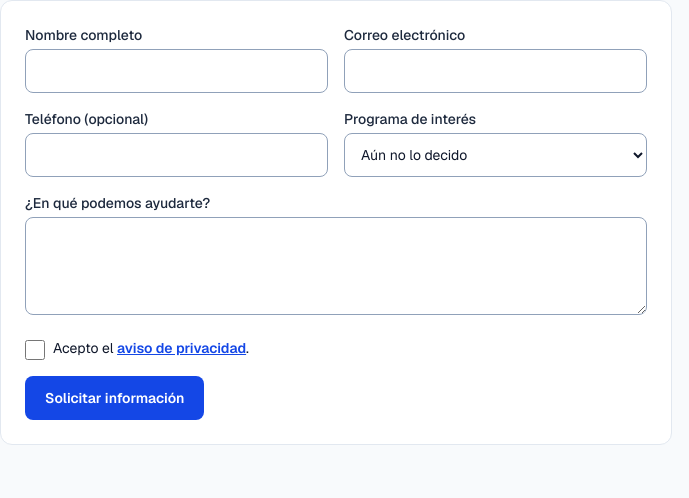
Test: formularios públicos › información: el límite de intentos se explica en español
Type "Ana" into the field labelled "Nombre completo".
click(176, 71); type("Ana")  # box [25,49,328,93]
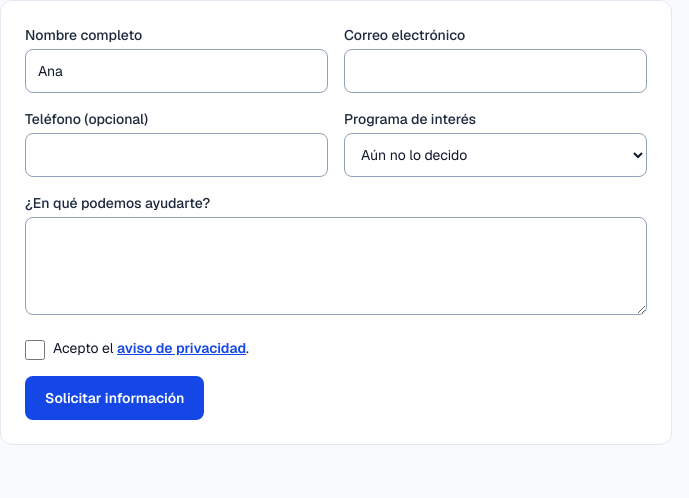
Type "ana@iinicia.test" into the field labelled "Correo electrónico".
click(496, 71); type("ana@iinicia.test")  # box [344,49,647,93]
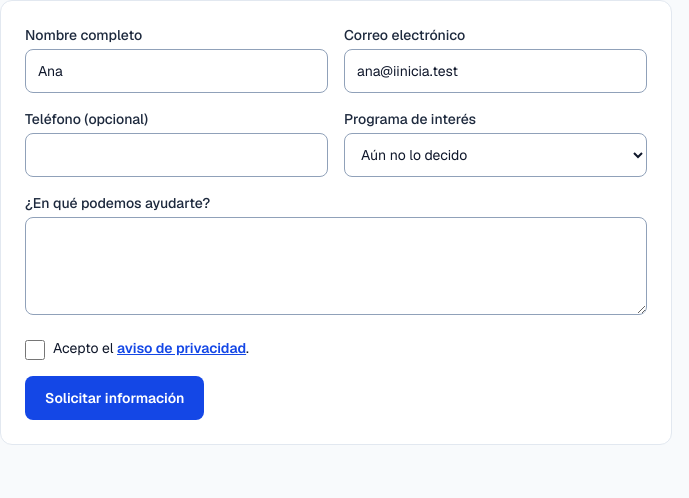
Type "Quiero información" into the text box labelled "¿En qué podemos ayudarte?".
click(336, 266); type("Quiero información")  # box [25,217,647,315]
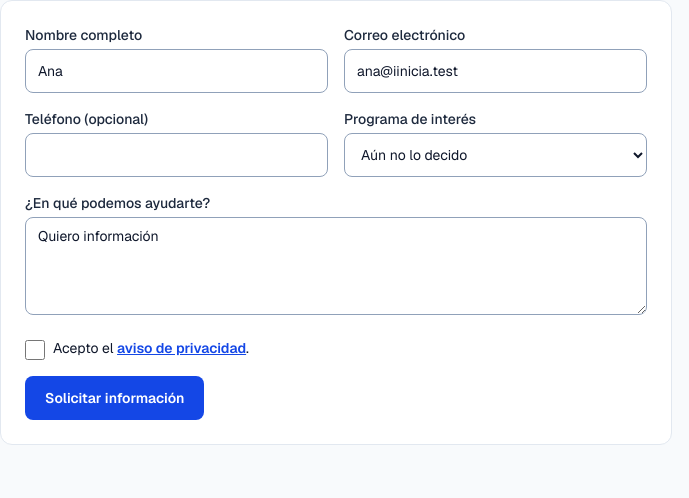
Click the checkbox.
click(35, 350)  # box [25,340,45,360]
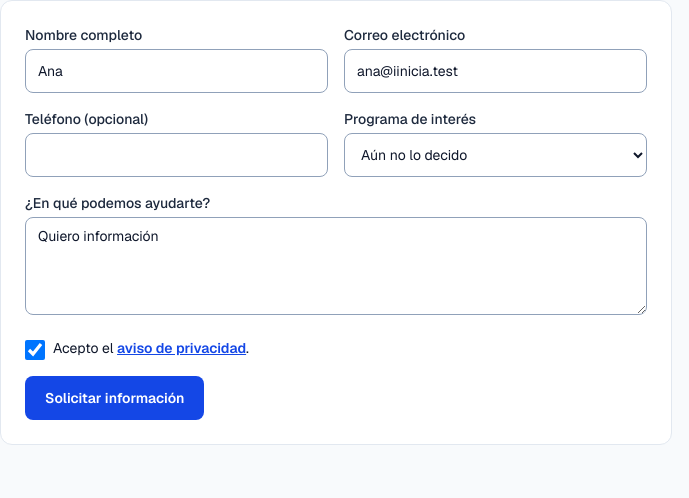
Submit the form named "Solicitar información"
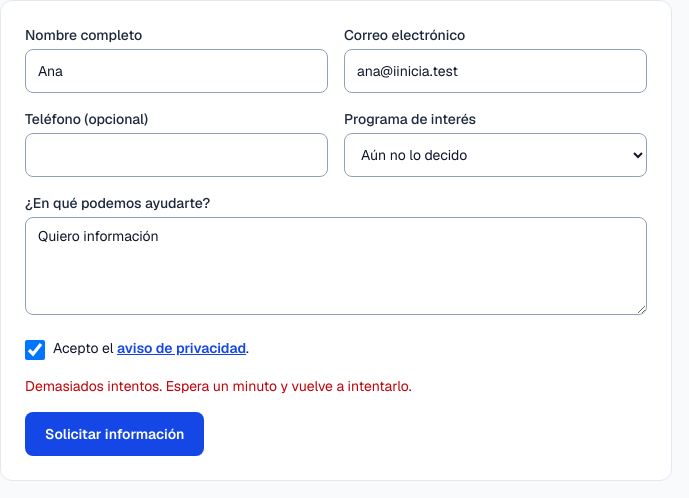
Expected: the message shows "Demasiados intentos", [25,377,412,395]
